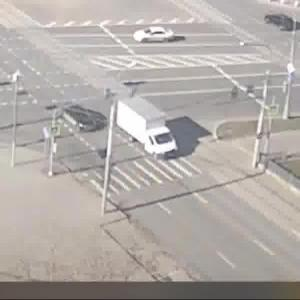car: (113, 97, 181, 162), (134, 23, 195, 49), (59, 102, 101, 137), (263, 11, 300, 31)
